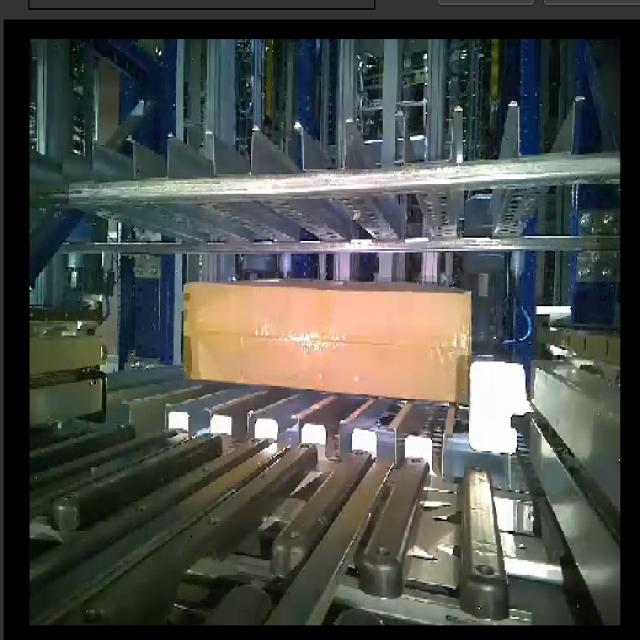box: (176, 267, 477, 403)
